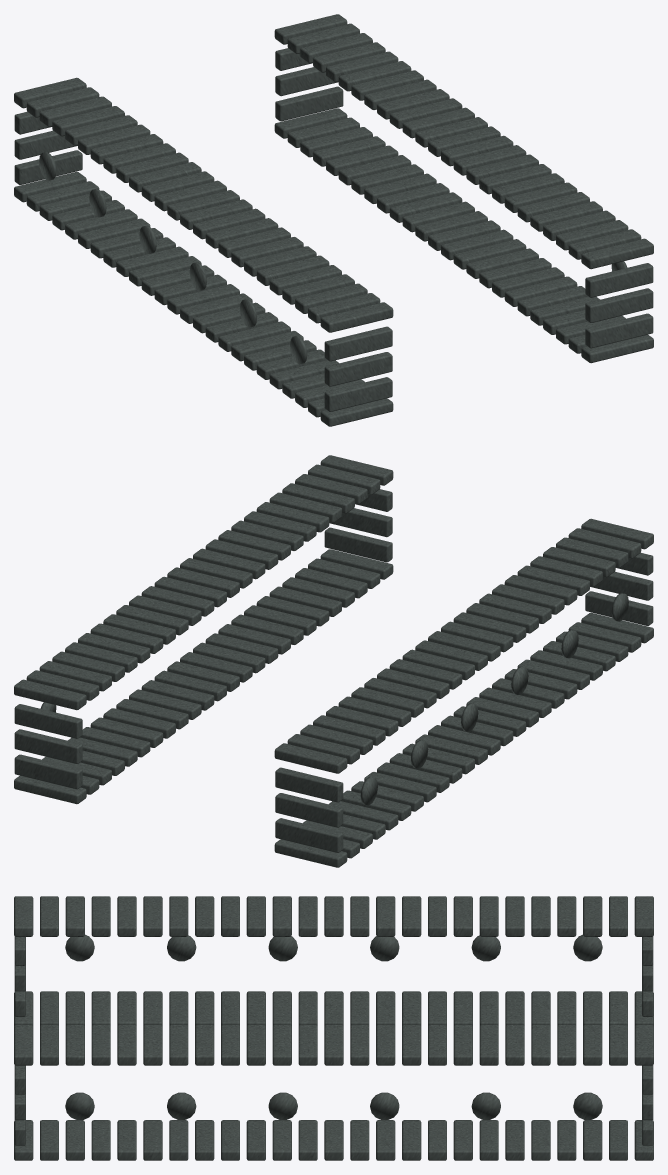
3 views of the same model, one above another, from view 1: azimuth 30°, elevation 25°; view 2: azimuth 150°, elevation 25°; view 3: azimuth 270°, elevation 25° (orthographic).
Size of the model in its own units: 3.37 by 1.03 by 5.67.
1 material, 1 textured.
